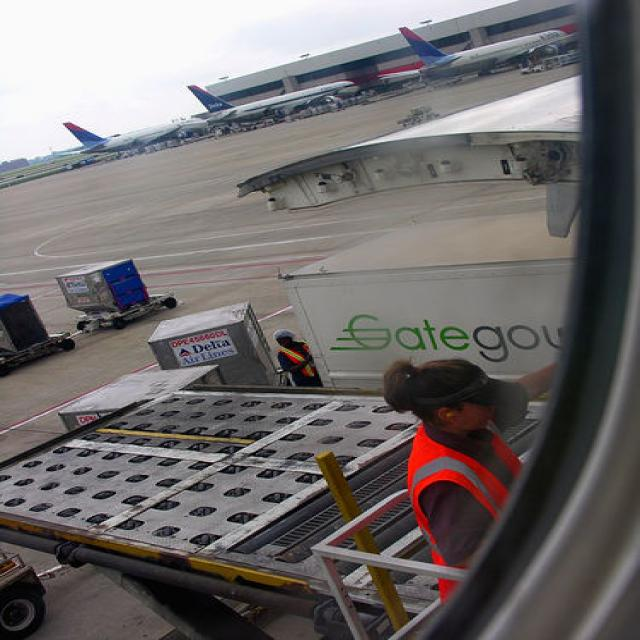Vehicle: (277, 211, 585, 391)
